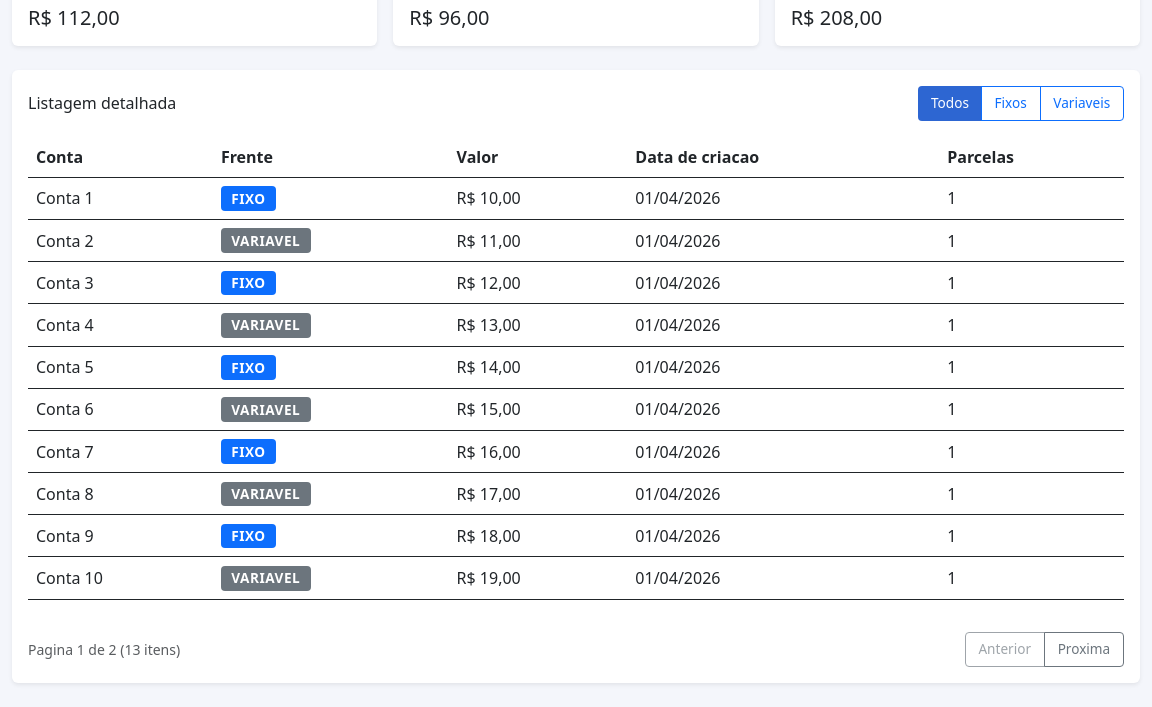
Test: CostsPage › paginacao navega entre paginas quando ha muitos itens
(page scrolled)
Expected: the text "Conta 1" is shown, [28,177,213,220]
Expected: the text "Conta 11" is not shown
Click the button "Proxima" at (1084, 649), box [1044,632,1124,667]
(page scrolled)
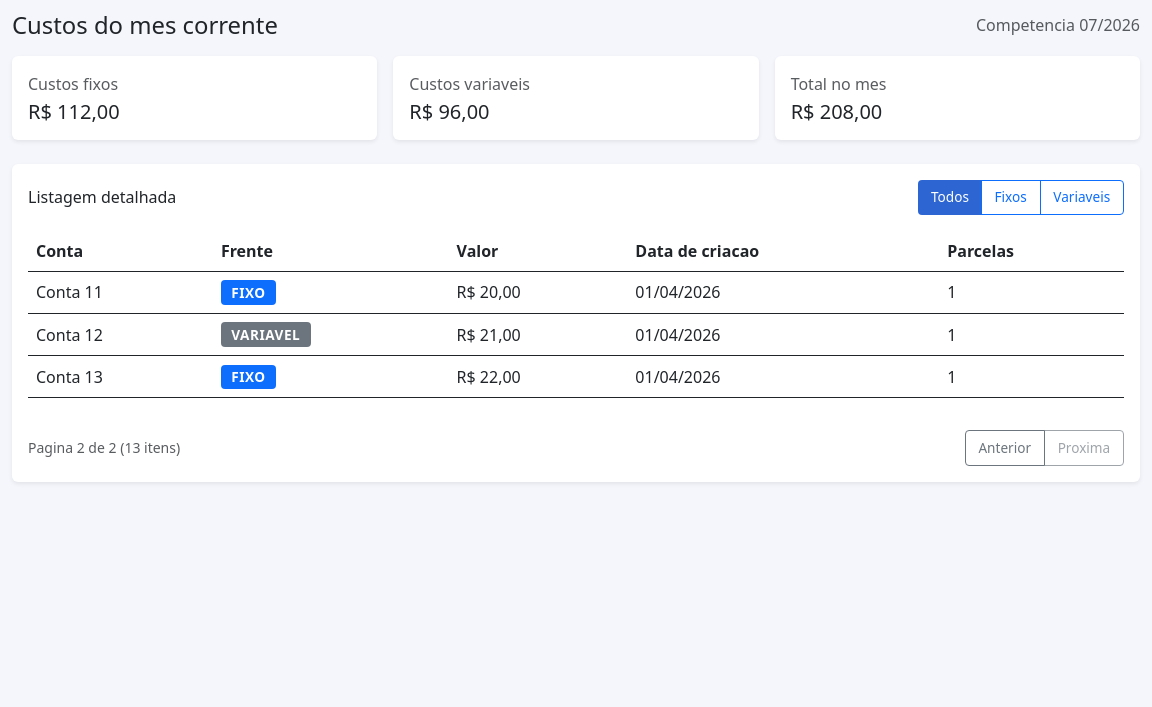
Expected: the text "Conta 11" is shown, [28,271,213,314]
